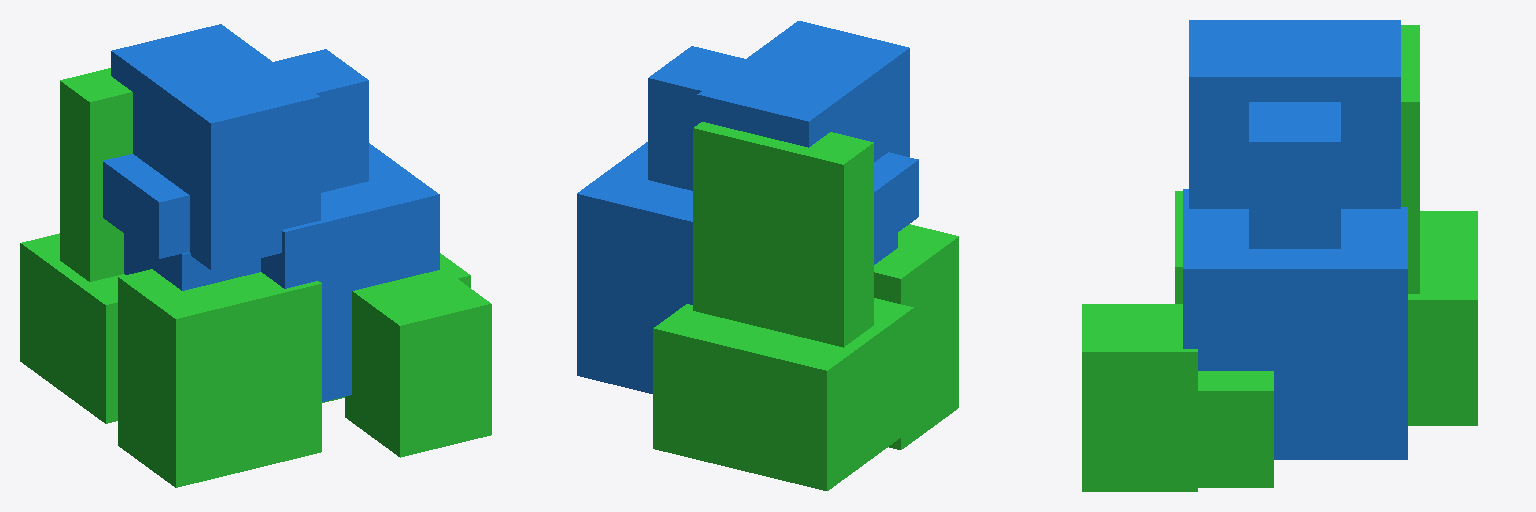
The robot description file, URDF, robot "robot":
<robot name = "robot">
    <link name="Link0">
        <inertial>
            <origin xyz="0 0 2" rpy="0 0 0"/>
            <mass value="0.726232365177907" />
            <inertia ixx="100" ixy="0" ixz="0" iyy="100" iyz="0" izz="100" />
        </inertial>
        <visual>
            <origin xyz="0 0 2" rpy="0 0 0"/>
            <geometry>
                <box size="0.7124744652150284 1.1196140851211127 0.9104119346706403" />
            </geometry>
            <material name="No Sensor">
                <color rgba="0.184 0.553 0.933 1.0"/>
            </material>
        </visual>
        <collision>
            <origin xyz="0 0 2" rpy="0 0 0"/>
            <geometry>
                <box size="0.7124744652150284 1.1196140851211127 0.9104119346706403" />
            </geometry>
        </collision>
    </link>
    <joint name="Link0_Link1" type="revolute">
       <parent link="Link0"/>
       <child  link="Link1"/>
       <origin rpy="0 0 0" xyz="0.3562372326075142 0 2" />
       <axis xyz="1 0 0"/>
       <limit effort="0.0" lower="-3.14159" upper="3.14159" velocity="0.0"/>
    </joint>
    <link name="Link1">
        <inertial>
            <origin xyz="0.2495450442259664 0 0" rpy="0 0 0"/>
            <mass value="0.1510254787208593" />
            <inertia ixx="100" ixy="0" ixz="0" iyy="100" iyz="0" izz="100" />
        </inertial>
        <visual>
            <origin xyz="0.2495450442259664 0 0" rpy="0 0 0"/>
            <geometry>
                <box size="0.4990900884519328 0.4849022208021049 0.6240467168670696" />
            </geometry>
            <material name="No Sensor">
                <color rgba="0.184 0.553 0.933 1.0"/>
            </material>
        </visual>
        <collision>
            <origin xyz="0.2495450442259664 0 0" rpy="0 0 0"/>
            <geometry>
                <box size="0.4990900884519328 0.4849022208021049 0.6240467168670696" />
            </geometry>
        </collision>
    </link>
    <joint name="Link1_Link2" type="revolute">
       <parent link="Link1"/>
       <child  link="Link2"/>
       <origin rpy="0 0 0" xyz="0.2495450442259664 0.0 -0.3120233584335348" />
       <axis xyz="0 1 0"/>
       <limit effort="0.0" lower="-3.14159" upper="3.14159" velocity="0.0"/>
    </joint>
    <link name="Link2">
        <inertial>
            <origin xyz="0.0 0.0 -0.5559529996594165" rpy="0 0 0"/>
            <mass value="1.3296139992274023" />
            <inertia ixx="100" ixy="0" ixz="0" iyy="100" iyz="0" izz="100" />
        </inertial>
        <visual>
            <origin xyz="0.0 0.0 -0.5559529996594165" rpy="0 0 0"/>
            <geometry>
                <box size="1.0066160562962172 1.187937664309782 1.111905999318833" />
            </geometry>
            <material name="No Sensor">
                <color rgba="0.184 0.553 0.933 1.0"/>
            </material>
        </visual>
        <collision>
            <origin xyz="0.0 0.0 -0.5559529996594165" rpy="0 0 0"/>
            <geometry>
                <box size="1.0066160562962172 1.187937664309782 1.111905999318833" />
            </geometry>
        </collision>
    </link>
    <joint name="Link2_Link3" type="revolute">
       <parent link="Link2"/>
       <child  link="Link3"/>
       <origin rpy="0 0 0" xyz="-0.5033080281481086 0.0 -0.5559529996594165" />
       <axis xyz="0 1 0"/>
       <limit effort="0.0" lower="-3.14159" upper="3.14159" velocity="0.0"/>
    </joint>
    <link name="Link3">
        <inertial>
            <origin xyz="-0.2558053963414609 0.0 0.0" rpy="0 0 0"/>
            <mass value="0.29191616644118834" />
            <inertia ixx="100" ixy="0" ixz="0" iyy="100" iyz="0" izz="100" />
        </inertial>
        <visual>
            <origin xyz="-0.2558053963414609 0.0 0.0" rpy="0 0 0"/>
            <geometry>
                <box size="0.5116107926829218 0.6622789279785698 0.8615440994503215" />
            </geometry>
            <material name="No Sensor">
                <color rgba="0.184 0.553 0.933 1.0"/>
            </material>
        </visual>
        <collision>
            <origin xyz="-0.2558053963414609 0.0 0.0" rpy="0 0 0"/>
            <geometry>
                <box size="0.5116107926829218 0.6622789279785698 0.8615440994503215" />
            </geometry>
        </collision>
    </link>
    <joint name="Link3_Link4" type="revolute">
       <parent link="Link3"/>
       <child  link="Link4"/>
       <origin rpy="0 0 0" xyz="-0.2558053963414609 0.0 0.43077204972516075" />
       <axis xyz="1 0 0"/>
       <limit effort="0.0" lower="-3.14159" upper="3.14159" velocity="0.0"/>
    </joint>
    <link name="Link4">
        <inertial>
            <origin xyz="0.0 0.0 0.17571038844063835" rpy="0 0 0"/>
            <mass value="0.17901244462562535" />
            <inertia ixx="100" ixy="0" ixz="0" iyy="100" iyz="0" izz="100" />
        </inertial>
        <visual>
            <origin xyz="0.0 0.0 0.17571038844063835" rpy="0 0 0"/>
            <geometry>
                <box size="0.7968344558158084 0.6392749454089657 0.3514207768812767" />
            </geometry>
            <material name="No Sensor">
                <color rgba="0.184 0.553 0.933 1.0"/>
            </material>
        </visual>
        <collision>
            <origin xyz="0.0 0.0 0.17571038844063835" rpy="0 0 0"/>
            <geometry>
                <box size="0.7968344558158084 0.6392749454089657 0.3514207768812767" />
            </geometry>
        </collision>
    </link>
    <joint name="Link4_Link5" type="revolute">
       <parent link="Link4"/>
       <child  link="Link5"/>
       <origin rpy="0 0 0" xyz="0.0 0.31963747270448284 0.17571038844063835" />
       <axis xyz="0 1 0"/>
       <limit effort="0.0" lower="-3.14159" upper="3.14159" velocity="0.0"/>
    </joint>
    <link name="Link5">
        <inertial>
            <origin xyz="0.0 0.16906758196271693 0.0" rpy="0 0 0"/>
            <mass value="0.36313677911590314" />
            <inertia ixx="100" ixy="0" ixz="0" iyy="100" iyz="0" izz="100" />
        </inertial>
        <visual>
            <origin xyz="0.0 0.16906758196271693 0.0" rpy="0 0 0"/>
            <geometry>
                <box size="0.9622448043972556 0.33813516392543386 1.1160774293737195" />
            </geometry>
            <material name="Sensor">
                <color rgba="0.239 0.875 0.282 1.0"/>
            </material>
        </visual>
        <collision>
            <origin xyz="0.0 0.16906758196271693 0.0" rpy="0 0 0"/>
            <geometry>
                <box size="0.9622448043972556 0.33813516392543386 1.1160774293737195" />
            </geometry>
        </collision>
    </link>
    <joint name="Link5_Link6" type="revolute">
       <parent link="Link5"/>
       <child  link="Link6"/>
       <origin rpy="0 0 0" xyz="0.0 0.16906758196271693 -0.5580387146868597" />
       <axis xyz="0 1 0"/>
       <limit effort="0.0" lower="-3.14159" upper="3.14159" velocity="0.0"/>
    </joint>
    <link name="Link6">
        <inertial>
            <origin xyz="0.0 0.0 -0.36821228690384306" rpy="0 0 0"/>
            <mass value="0.7859016556937798" />
            <inertia ixx="100" ixy="0" ixz="0" iyy="100" iyz="0" izz="100" />
        </inertial>
        <visual>
            <origin xyz="0.0 0.0 -0.36821228690384306" rpy="0 0 0"/>
            <geometry>
                <box size="1.1134484403326346 0.9584507915153727 0.7364245738076861" />
            </geometry>
            <material name="Sensor">
                <color rgba="0.239 0.875 0.282 1.0"/>
            </material>
        </visual>
        <collision>
            <origin xyz="0.0 0.0 -0.36821228690384306" rpy="0 0 0"/>
            <geometry>
                <box size="1.1134484403326346 0.9584507915153727 0.7364245738076861" />
            </geometry>
        </collision>
    </link>
    <joint name="Link6_Link7" type="revolute">
       <parent link="Link6"/>
       <child  link="Link7"/>
       <origin rpy="0 0 0" xyz="0.0 -0.47922539575768636 -0.36821228690384306" />
       <axis xyz="1 0 0"/>
       <limit effort="0.0" lower="-3.14159" upper="3.14159" velocity="0.0"/>
    </joint>
    <link name="Link7">
        <inertial>
            <origin xyz="0.0 -0.32249353005088255 0.0" rpy="0 0 0"/>
            <mass value="0.6412636889764314" />
            <inertia ixx="100" ixy="0" ixz="0" iyy="100" iyz="0" izz="100" />
        </inertial>
        <visual>
            <origin xyz="0.0 -0.32249353005088255 0.0" rpy="0 0 0"/>
            <geometry>
                <box size="0.9491465654129165 0.6449870601017651 1.0474959842933487" />
            </geometry>
            <material name="Sensor">
                <color rgba="0.239 0.875 0.282 1.0"/>
            </material>
        </visual>
        <collision>
            <origin xyz="0.0 -0.32249353005088255 0.0" rpy="0 0 0"/>
            <geometry>
                <box size="0.9491465654129165 0.6449870601017651 1.0474959842933487" />
            </geometry>
        </collision>
    </link>
    <joint name="Link7_Link8" type="revolute">
       <parent link="Link7"/>
       <child  link="Link8"/>
       <origin rpy="0 0 0" xyz="0.47457328270645827 -0.32249353005088255 0.0" />
       <axis xyz="0 1 0"/>
       <limit effort="0.0" lower="-3.14159" upper="3.14159" velocity="0.0"/>
    </joint>
    <link name="Link8">
        <inertial>
            <origin xyz="0.5182085411399239 0.0 0.0" rpy="0 0 0"/>
            <mass value="0.23865187195889762" />
            <inertia ixx="100" ixy="0" ixz="0" iyy="100" iyz="0" izz="100" />
        </inertial>
        <visual>
            <origin xyz="0.5182085411399239 0.0 0.0" rpy="0 0 0"/>
            <geometry>
                <box size="1.0364170822798477 0.4055285838736217 0.5678175503505978" />
            </geometry>
            <material name="Sensor">
                <color rgba="0.239 0.875 0.282 1.0"/>
            </material>
        </visual>
        <collision>
            <origin xyz="0.5182085411399239 0.0 0.0" rpy="0 0 0"/>
            <geometry>
                <box size="1.0364170822798477 0.4055285838736217 0.5678175503505978" />
            </geometry>
        </collision>
    </link>
    <joint name="Link8_Link9" type="revolute">
       <parent link="Link8"/>
       <child  link="Link9"/>
       <origin rpy="0 0 0" xyz="0.5182085411399239 -0.20276429193681084 0.0" />
       <axis xyz="0 0 1"/>
       <limit effort="0.0" lower="-3.14159" upper="3.14159" velocity="0.0"/>
    </joint>
    <link name="Link9">
        <inertial>
            <origin xyz="0.0 -0.3070851493267629 0.0" rpy="0 0 0"/>
            <mass value="0.29791787275248915" />
            <inertia ixx="100" ixy="0" ixz="0" iyy="100" iyz="0" izz="100" />
        </inertial>
        <visual>
            <origin xyz="0.0 -0.3070851493267629 0.0" rpy="0 0 0"/>
            <geometry>
                <box size="0.5939831767859903 0.6141702986535258 0.8166455566878987" />
            </geometry>
            <material name="Sensor">
                <color rgba="0.239 0.875 0.282 1.0"/>
            </material>
        </visual>
        <collision>
            <origin xyz="0.0 -0.3070851493267629 0.0" rpy="0 0 0"/>
            <geometry>
                <box size="0.5939831767859903 0.6141702986535258 0.8166455566878987" />
            </geometry>
        </collision>
    </link>
</robot>

--- What the picture shows (computed from the rendered views, not written in the file) ---
The picture shows the robot from 3 angles, left to right: view 1: azimuth 30°, elevation 25°; view 2: azimuth 150°, elevation 25°; view 3: azimuth 270°, elevation 25°; orthographic projection.
Robot: robot — 10 links, 9 joints (9 revolute); root link Link0; default pose: every joint at zero.
Visible links, largest first — view 1: Link7, Link0, Link9, Link2, Link6, Link5, Link1, Link4, Link3; view 2: Link6, Link5, Link2, Link0, Link7, Link1, Link4; view 3: Link2, Link0, Link9, Link6, Link1, Link8, Link5, Link7.
Link boxes in pixels (left/top/right/bottom): Link7: left=118, top=269, right=321, bottom=487; Link0: left=111, top=24, right=320, bottom=269; Link9: left=345, top=266, right=491, bottom=457; Link2: left=261, top=143, right=439, bottom=401; Link6: left=20, top=233, right=124, bottom=423; Link5: left=60, top=68, right=132, bottom=281; Link1: left=274, top=49, right=368, bottom=192; Link4: left=103, top=154, right=189, bottom=258; Link3: left=124, top=234, right=260, bottom=290; Link6: left=653, top=298, right=913, bottom=490; Link5: left=693, top=122, right=873, bottom=347; Link2: left=577, top=142, right=692, bottom=393; Link0: left=697, top=21, right=909, bottom=161; Link7: left=874, top=224, right=958, bottom=449; Link1: left=648, top=46, right=744, bottom=190; Link4: left=874, top=152, right=918, bottom=249; Link2: left=1183, top=189, right=1407, bottom=459; Link0: left=1189, top=20, right=1400, bottom=208; Link9: left=1082, top=304, right=1197, bottom=491; Link6: left=1408, top=211, right=1477, bottom=425; Link1: left=1249, top=102, right=1340, bottom=248; Link8: left=1198, top=371, right=1273, bottom=487; Link5: left=1401, top=25, right=1419, bottom=293; Link7: left=1175, top=191, right=1182, bottom=303.
Size in the robot's own frame: 2.07 by 2.1 by 2.17 metres.
Geometry: primitives only (box / cylinder / sphere), no mesh files.